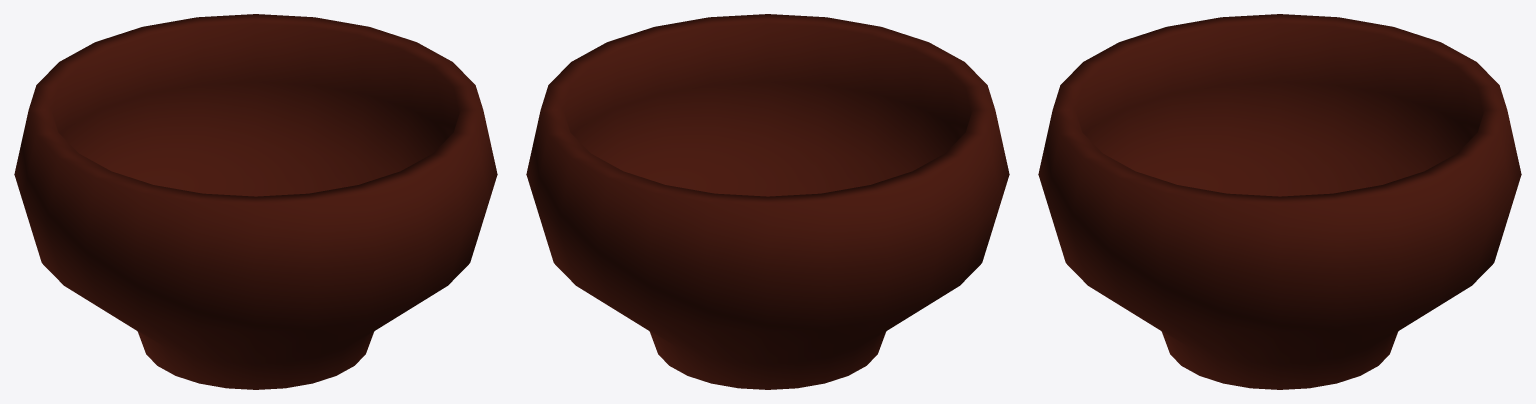
File: copalero.obj
The picture shows the model from 3 angles, left to right: view 1: azimuth 30°, elevation 25°; view 2: azimuth 150°, elevation 25°; view 3: azimuth 270°, elevation 25°; orthographic projection.
Visible parts, largest first — view 1: copalero; view 2: copalero; view 3: copalero.
Part boxes in pixels (x1=…): copalero: x1=14, y1=14, x2=497, y2=389; copalero: x1=526, y1=14, x2=1009, y2=389; copalero: x1=1038, y1=14, x2=1521, y2=389.
Size of the model in its own units: 0.17 by 0.09 by 0.17.
Materials: 1 (1 with a texture image).
